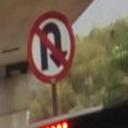NoVirarU: (26, 11, 76, 83)
